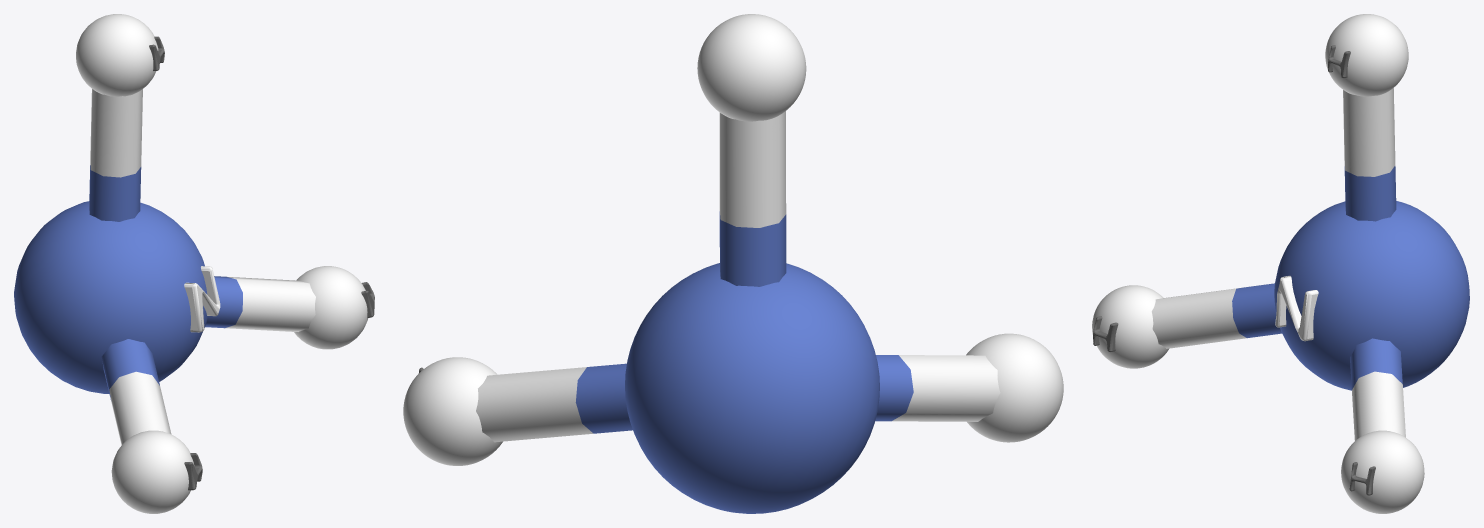
3 views of the same model, side by side, from view 1: azimuth 30°, elevation 25°; view 2: azimuth 150°, elevation 25°; view 3: azimuth 270°, elevation 25° (orthographic). The views are drawn at different scales.
Visible parts, largest first — view 1: NH3; view 2: NH3; view 3: NH3.
Part boxes in pixels (<box>): NH3: <box>14,14,374,513</box>; NH3: <box>403,14,1063,513</box>; NH3: <box>1092,14,1469,513</box>.
Bounding box in the file's own units: 165 × 163 × 145.
